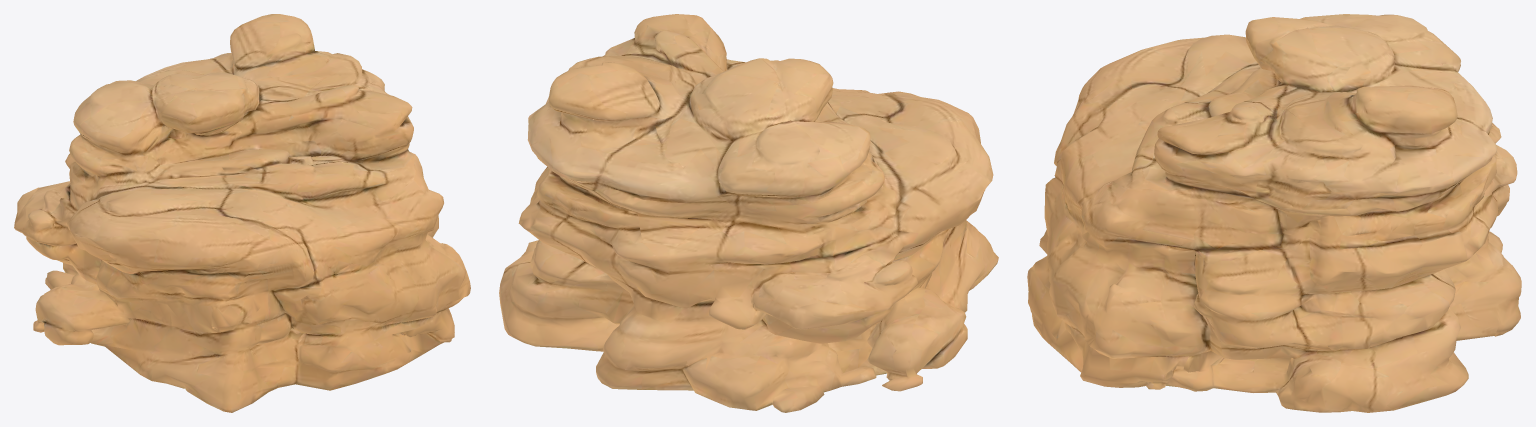
File: rock.glb
3 views of the same model, side by side, from view 1: azimuth 30°, elevation 25°; view 2: azimuth 150°, elevation 25°; view 3: azimuth 270°, elevation 25° (orthographic). The views are drawn at different scales.
Bounding box in the file's own units: 0.5086 × 0.3 × 0.5002.
1 material, 1 textured.
